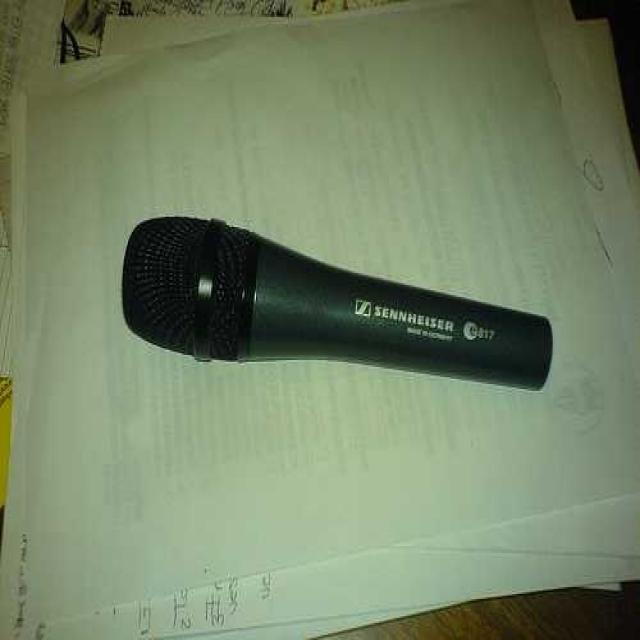microphone: (120, 212, 546, 392), (122, 218, 248, 364)
